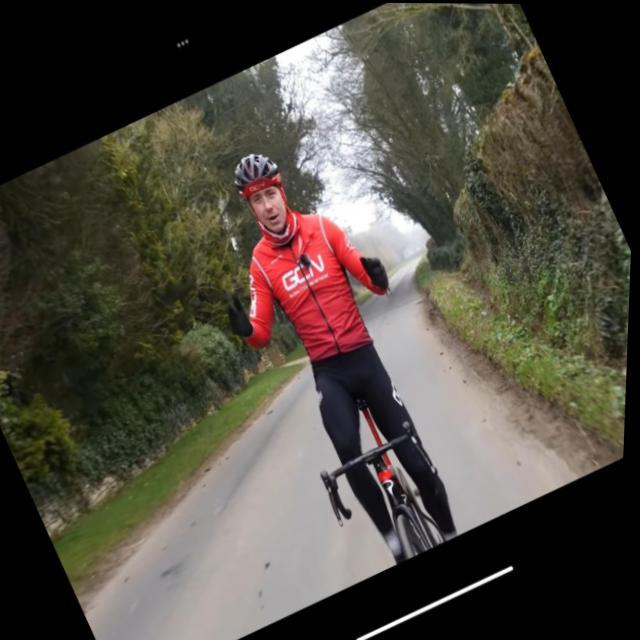Helmet: (226, 145, 304, 243)
